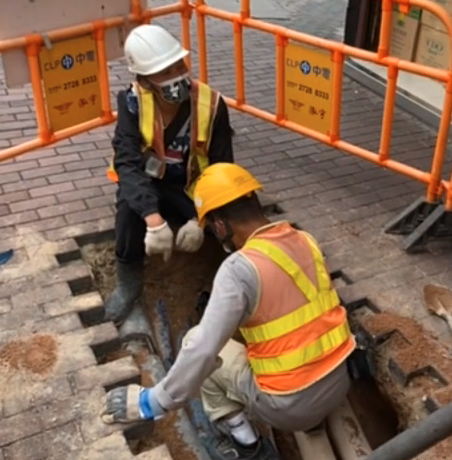Hard Hat: (192, 162, 269, 241), (124, 25, 194, 104)
Person: (153, 165, 359, 457), (114, 27, 234, 320)
Vest: (235, 212, 359, 396), (127, 75, 218, 187)
